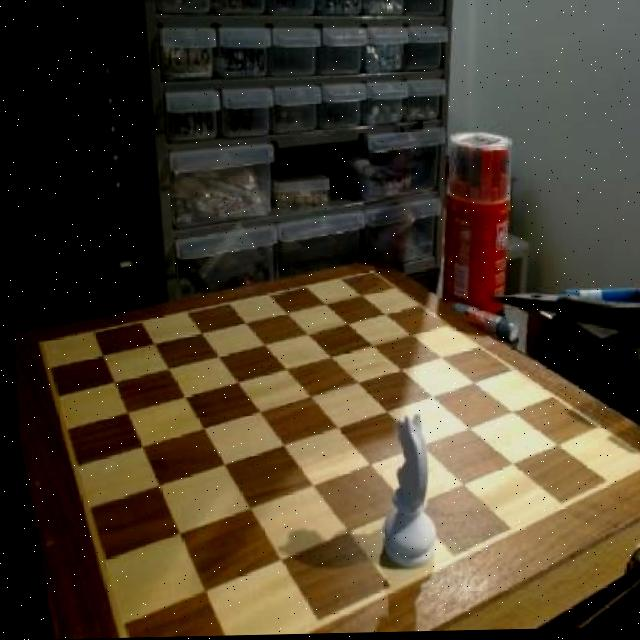white-king: (370, 408, 438, 574)
